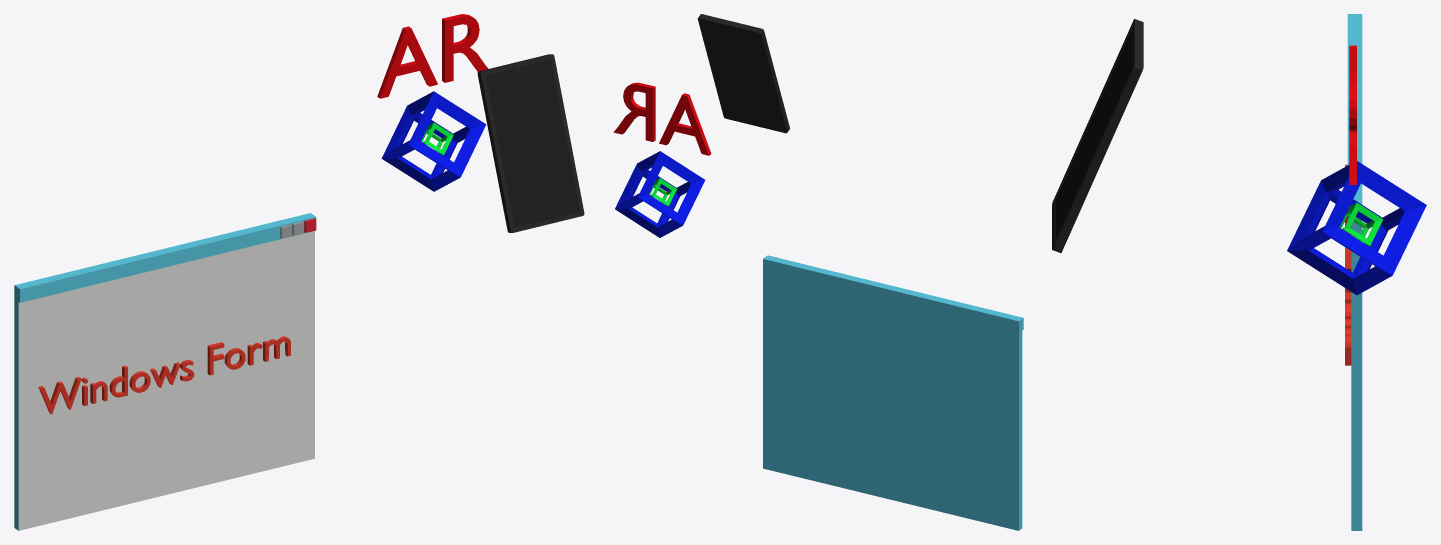
The model's file is Works.glb.
3 views of the same model, side by side, from view 1: azimuth 30°, elevation 25°; view 2: azimuth 150°, elevation 25°; view 3: azimuth 270°, elevation 25° (orthographic). The views are drawn at different scales.
Parts seen in each view (by area): view 1: winform, phone, BigCube, Text; view 2: winform, phone, BigCube, Text; view 3: BigCube, phone, winform, Text, smallCube.
Part boxes in pixels (x1,y1,x2,y2): winform: [14, 213, 316, 530]; phone: [477, 54, 584, 232]; BigCube: [381, 91, 486, 191]; Text: [377, 14, 488, 98]; winform: [763, 255, 1023, 530]; phone: [697, 14, 789, 133]; BigCube: [615, 151, 705, 237]; Text: [613, 82, 711, 155]; BigCube: [1287, 161, 1426, 295]; phone: [1052, 19, 1143, 252]; winform: [1345, 14, 1362, 530]; Text: [1349, 45, 1356, 184]; smallCube: [1339, 202, 1382, 246].
Size of the model in its own units: 4.1 by 3.54 by 2.11.
